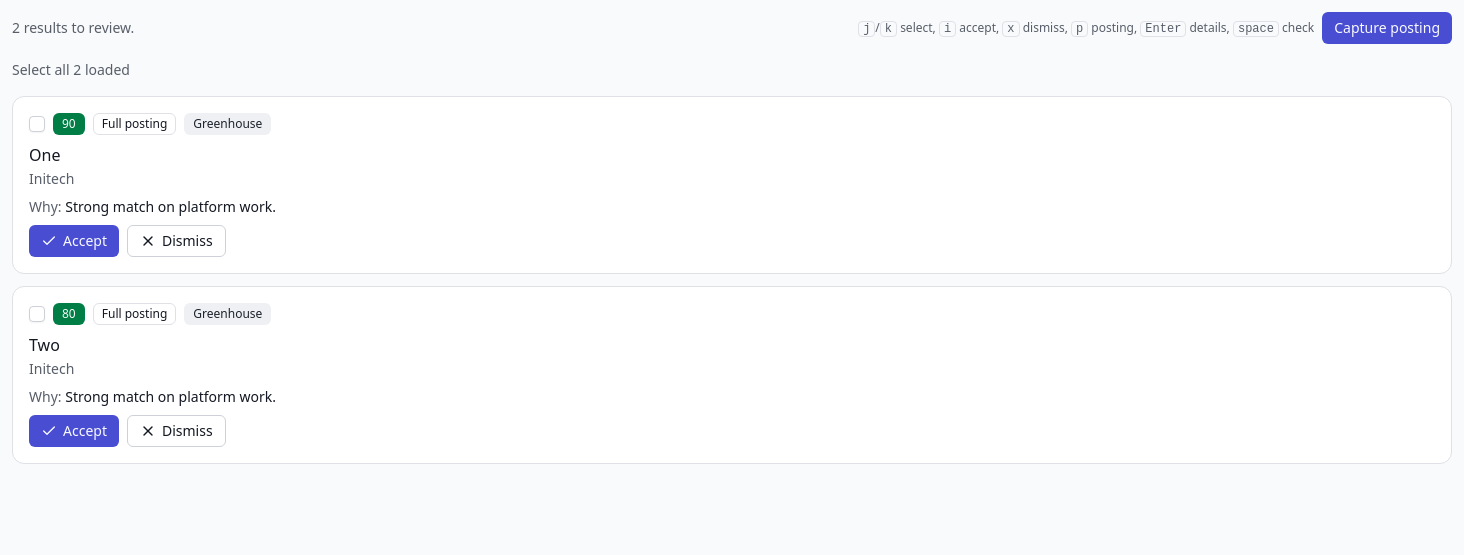
Test: ReviewQueue bulk triage (#184) › checking a row shows the action bar with a count; Clear empties it
Check: the button "One" is shown, box [29,143,60,167]
Check: the text "1 selected" is not shown
What coordinates should you click on to do the following:
click the checkbox named "Select One at Initech"
I would click on:
 (37, 124)
Its box is [29,116,45,132].
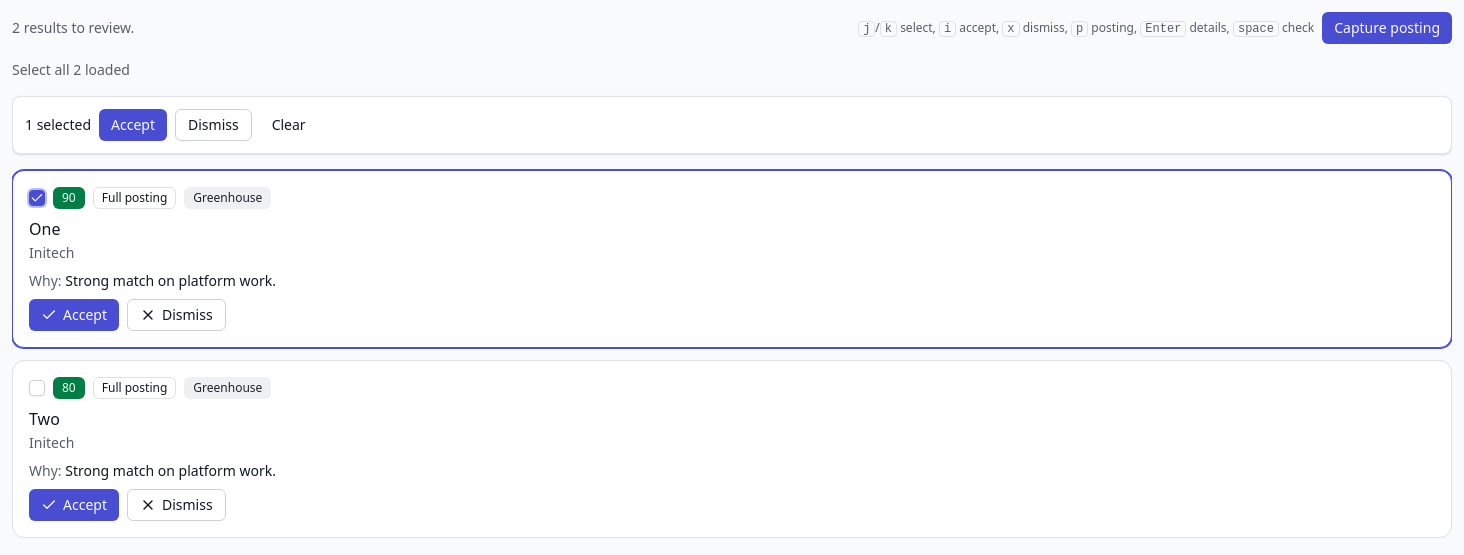
Check: the text "1 selected" is shown, box [25,115,91,135]
What coordinates should you click on to do the following:
click the button "Clear"
I would click on:
 (289, 125)
Its box is [260,109,318,141].
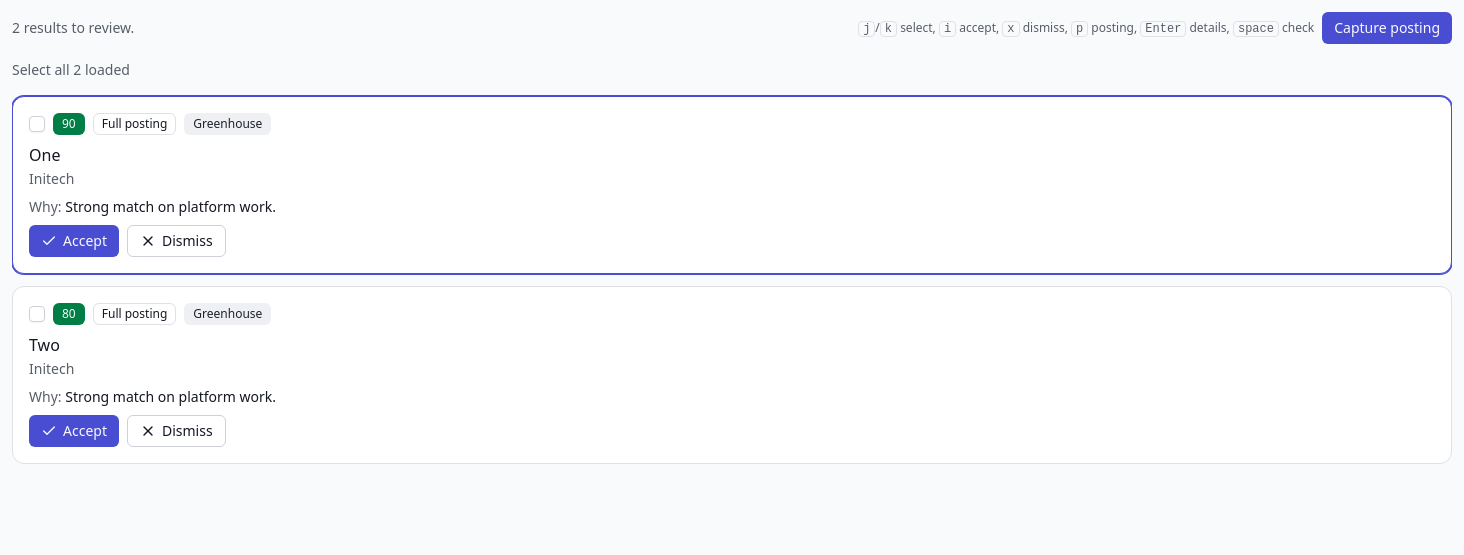
Check: the text "1 selected" is gone
